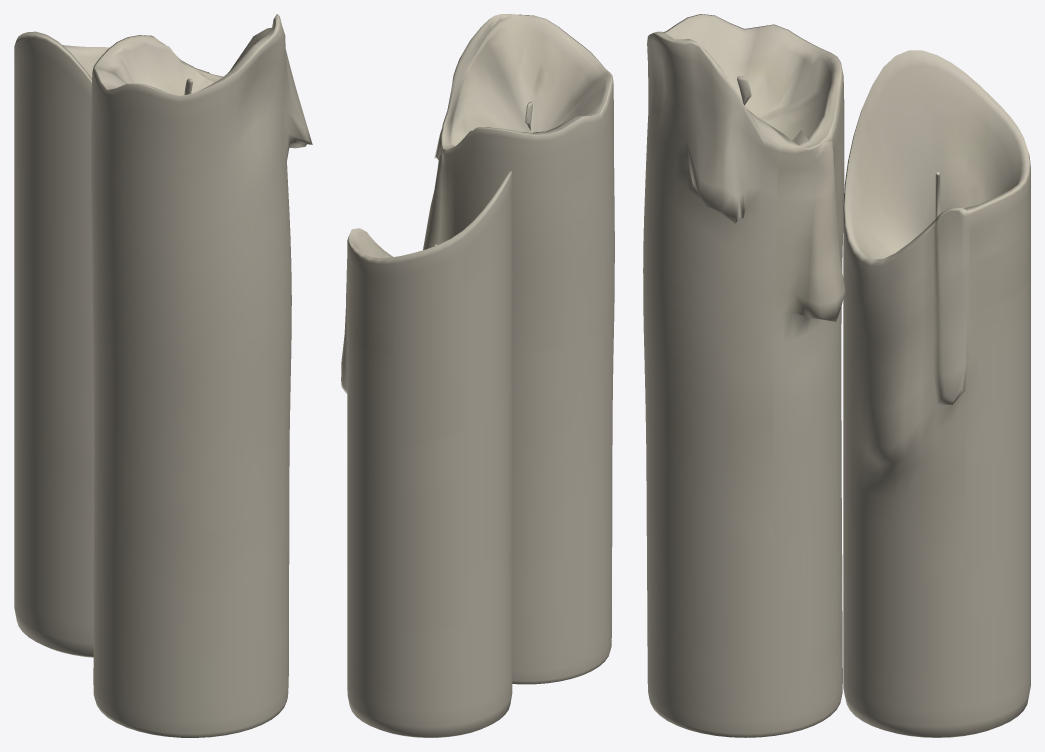
File: candle1.fbx
3 renders of one model, left to right at view 1: azimuth 30°, elevation 25°; view 2: azimuth 150°, elevation 25°; view 3: azimuth 270°, elevation 25°, orthographic. The views are drawn at different scales.
Visible parts, largest first — view 1: pasted__pasted__pasted__pasted__pasted__group16_pasted__past, pCylinder5; view 2: pCylinder5, pasted__pasted__pasted__pasted__pasted__group16_pasted__past; view 3: pasted__pasted__pasted__pasted__pasted__group16_pasted__past, pCylinder5.
Part boxes in pixels (x1,y1,x2,y2): pasted__pasted__pasted__pasted__pasted__group16_pasted__past: (91, 14, 312, 737); pCylinder5: (14, 31, 109, 657); pCylinder5: (341, 169, 512, 737); pasted__pasted__pasted__pasted__pasted__group16_pasted__past: (423, 14, 614, 684); pasted__pasted__pasted__pasted__pasted__group16_pasted__past: (643, 14, 845, 737); pCylinder5: (843, 50, 1030, 737).
Bounding box in the file's own units: 0.2106 × 0.7062 × 0.3613.
1 material, 1 textured.
